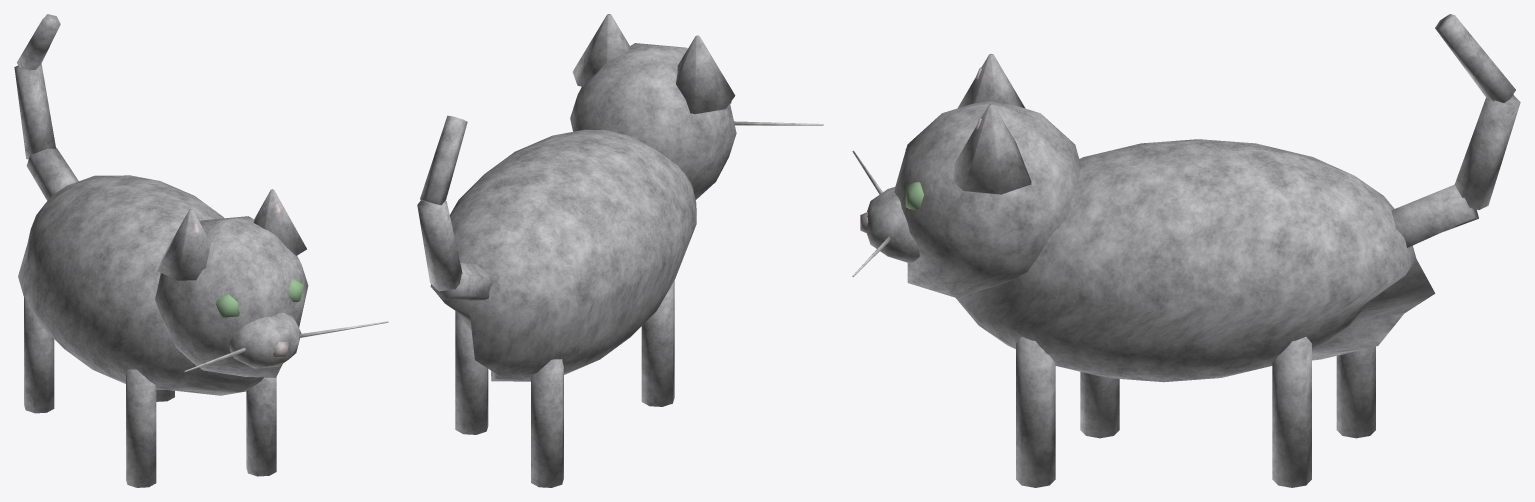
Rendered from mob_kucing_walk3.obj.
3 renders of one model, left to right at view 1: azimuth 30°, elevation 25°; view 2: azimuth 150°, elevation 25°; view 3: azimuth 270°, elevation 25°, orthographic. The views are drawn at different scales.
Visible parts, largest first — view 1: mob_kucing; view 2: mob_kucing; view 3: mob_kucing.
Part boxes in pixels (<box>): mob_kucing: <box>14,14,388,487</box>; mob_kucing: <box>417,14,823,487</box>; mob_kucing: <box>852,14,1520,487</box>.
Bounding box in the file's own units: 0.3741 × 0.618 × 0.8432.
1 material, 1 textured.
